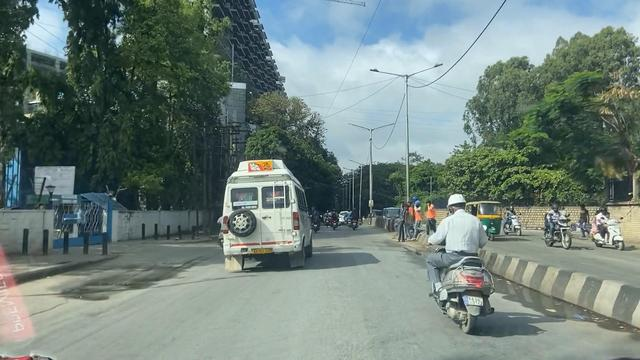HMV: (209, 156, 315, 279)
LMV: (422, 185, 498, 334)
RoadDamages: (21, 276, 138, 329)
